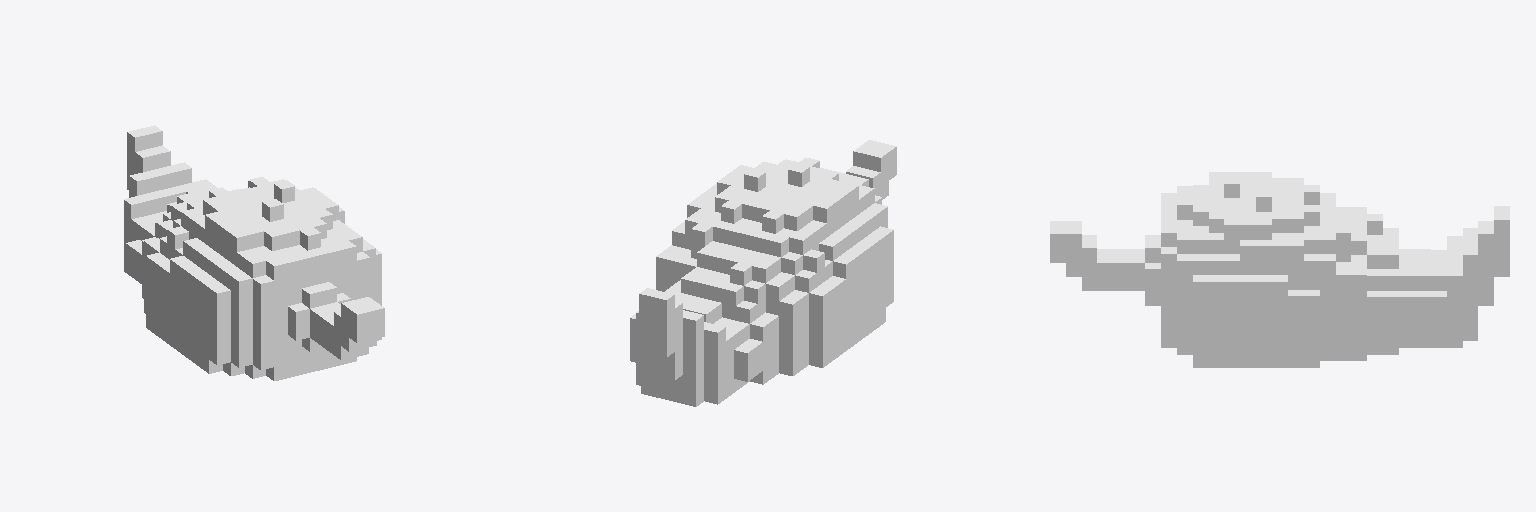
Rendered from chile-v01.obj.
The picture shows the model from 3 angles: view 1: azimuth 30°, elevation 25°; view 2: azimuth 150°, elevation 25°; view 3: azimuth 270°, elevation 25°; orthographic projection.
Visible parts, largest first — view 1: object 1; view 2: object 1; view 3: object 1.
Boxes of the visible parts, x1=… form: object 1: x1=124, y1=125, x2=384, y2=380; object 1: x1=630, y1=140, x2=896, y2=406; object 1: x1=1050, y1=172, x2=1509, y2=367.
Size of the model in its own units: 1.2 by 1 by 2.9.